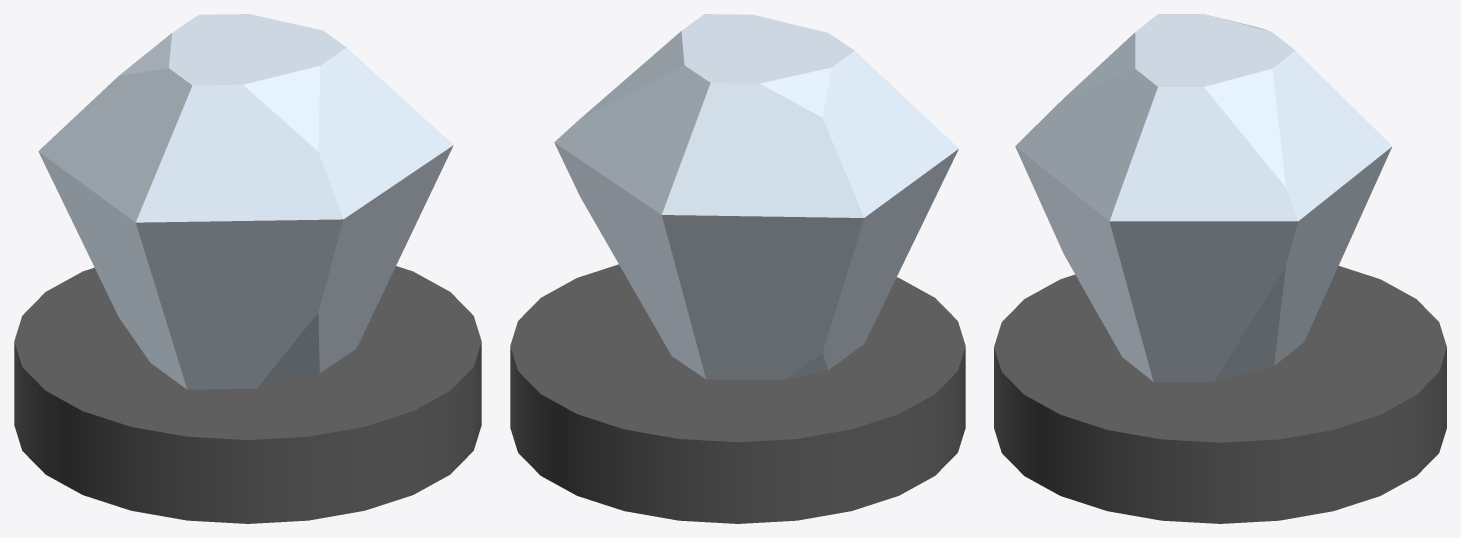
Rendered from gems_diamond_4.obj.
3 views of the same model, side by side, from view 1: azimuth 30°, elevation 25°; view 2: azimuth 150°, elevation 25°; view 3: azimuth 270°, elevation 25° (orthographic). The views are drawn at different scales.
Visible parts, largest first — view 1: mergedBlocks; view 2: mergedBlocks; view 3: mergedBlocks.
Part boxes in pixels (left/top/right/bottom): mergedBlocks: left=14, top=14, right=481, bottom=523; mergedBlocks: left=510, top=14, right=965, bottom=523; mergedBlocks: left=994, top=14, right=1446, bottom=523.
Size of the model in its own units: 1 by 0.9082 by 1.
